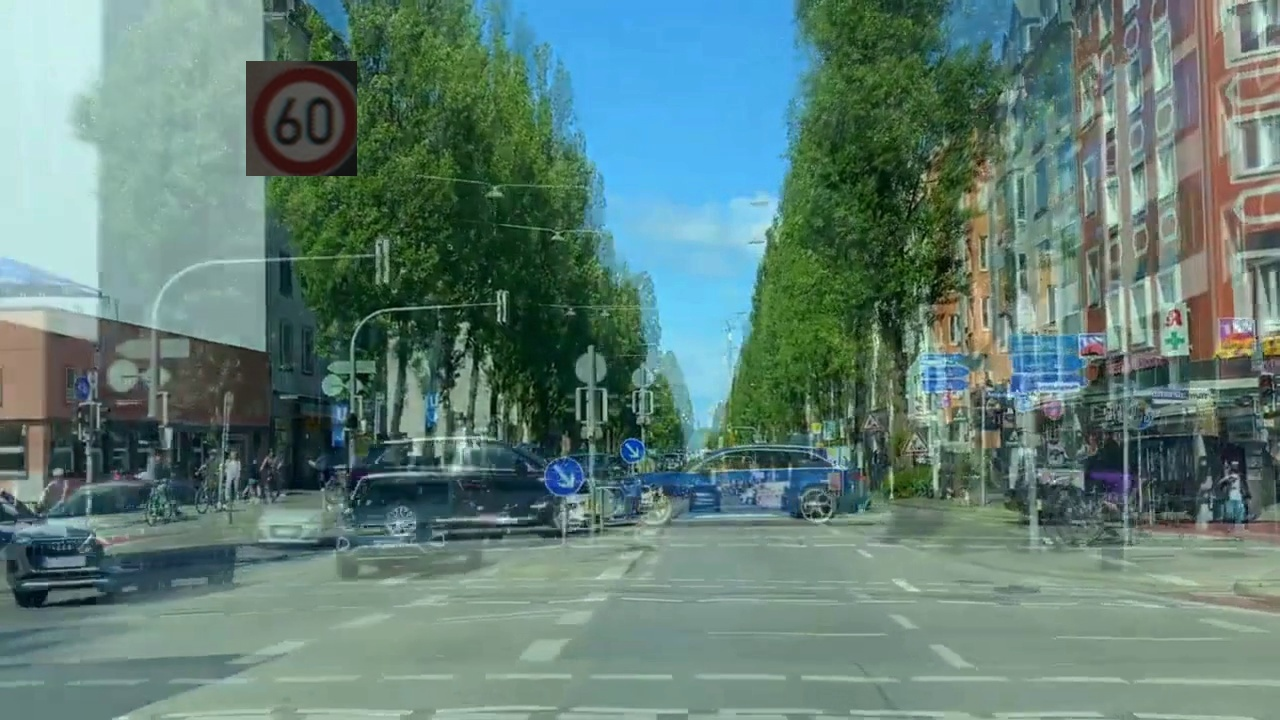Speed 60: (246, 61, 357, 176)
